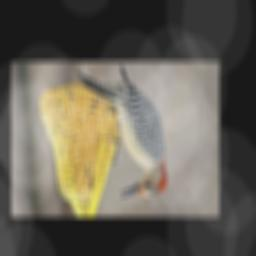Woodpecker: (72, 66, 181, 203)
